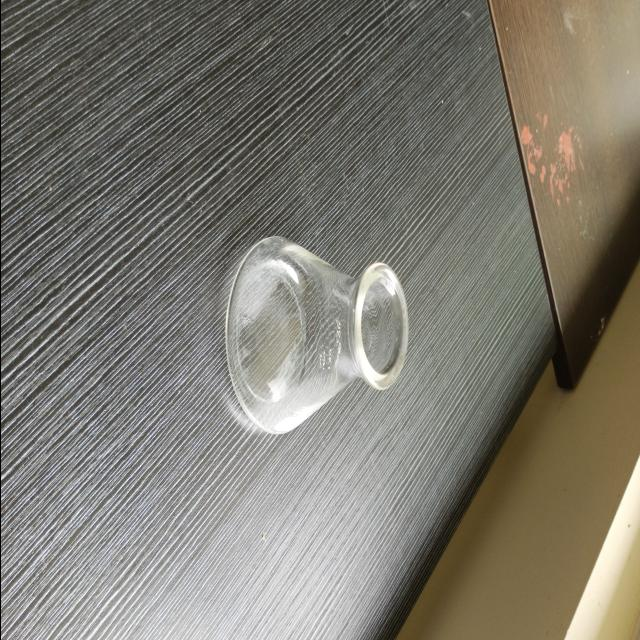erlenmeyer_flask: (220, 225, 414, 445)
